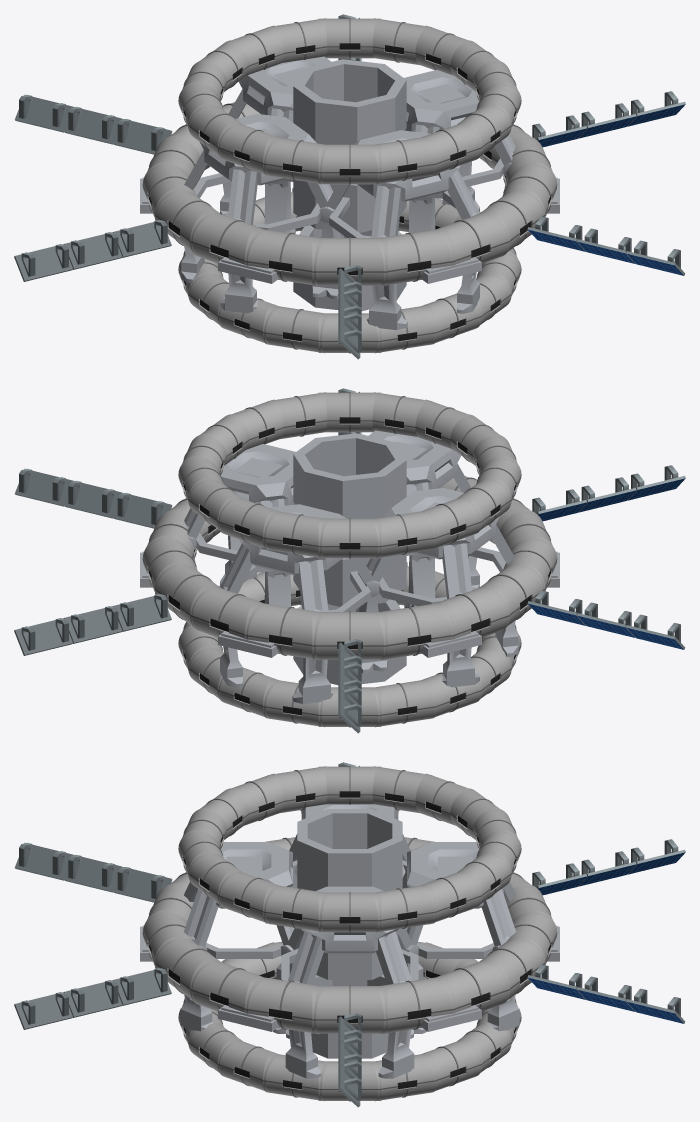
File: continuum_engine.glb
The picture shows the model from 3 angles, top to bottom: view 1: azimuth 30°, elevation 25°; view 2: azimuth 150°, elevation 25°; view 3: azimuth 270°, elevation 25°; orthographic projection.
Parts seen in each view (by area): view 1: kk_tower.10, k_tank.5, kk_tower.9, kk_tower.7, kk_tower.8, q_tube.43, q_tube.42, q_tube.44, q_tube.45, q_tube.41, q_tube.61, q_tube.60 (+49 smaller); view 2: kk_tower.8, kk_tower.9, k_tank.5, kk_tower.7, kk_tower.10, q_tube.37, q_tube.36, q_tube.38, q_tube.35, q_tube.39, q_tube.55, q_tube.54 (+49 smaller); view 3: kk_tower.7, k_tank.5, kk_tower.8, kk_tower.10, q_tube.31, q_tube.32, q_tube.48, q_tube.33, q_tube.47, q_tube.49, q_tube.50, q_tube.66 (+50 smaller).
Part boxes in pixels (<box>): kk_tower.10: <box>319,130,480,330</box>; k_tank.5: <box>293,59,406,144</box>; kk_tower.9: <box>181,114,341,313</box>; kk_tower.7: <box>404,70,515,229</box>; kk_tower.8: <box>220,56,331,234</box>; q_tube.43: <box>312,237,387,285</box>; q_tube.42: <box>244,229,323,286</box>; q_tube.44: <box>376,229,455,286</box>; q_tube.45: <box>436,212,509,265</box>; q_tube.41: <box>190,212,263,265</box>; q_tube.61: <box>318,144,381,184</box>; q_tube.60: <box>263,137,328,184</box>; kk_tower.8: <box>219,504,380,704</box>; kk_tower.9: <box>358,488,518,687</box>; k_tank.5: <box>293,433,406,518</box>; kk_tower.7: <box>184,444,295,603</box>; kk_tower.10: <box>368,430,479,608</box>; q_tube.37: <box>312,611,387,659</box>; q_tube.36: <box>244,603,323,660</box>; q_tube.38: <box>376,603,455,660</box>; q_tube.35: <box>190,586,263,639</box>; q_tube.39: <box>436,586,509,639</box>; q_tube.55: <box>318,518,381,558</box>; q_tube.54: <box>263,511,328,558</box>; kk_tower.7: <box>280,886,419,1078</box>; k_tank.5: <box>297,809,402,890</box>; kk_tower.8: <box>401,842,519,1033</box>; kk_tower.10: <box>180,842,298,1033</box>; q_tube.31: <box>312,985,387,1033</box>; q_tube.32: <box>376,977,455,1034</box>; q_tube.48: <box>244,977,323,1034</box>; q_tube.33: <box>436,960,509,1013</box>; q_tube.47: <box>190,960,263,1013</box>; q_tube.49: <box>318,892,381,932</box>; q_tube.50: <box>371,885,436,932</box>; q_tube.66: <box>263,885,328,932</box>.
Bounding box in the file's own units: 12.29 × 3.66 × 10.83.
3 materials, 2 textured.
